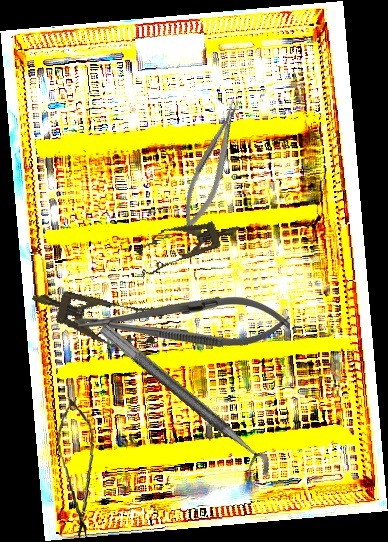Fixation Ring: (86, 321, 278, 490)
Micro Scissor: (54, 396, 102, 539)
Needle Holder: (170, 94, 254, 239), (78, 295, 290, 348)
Speculum: (25, 272, 166, 359), (131, 208, 246, 279)
